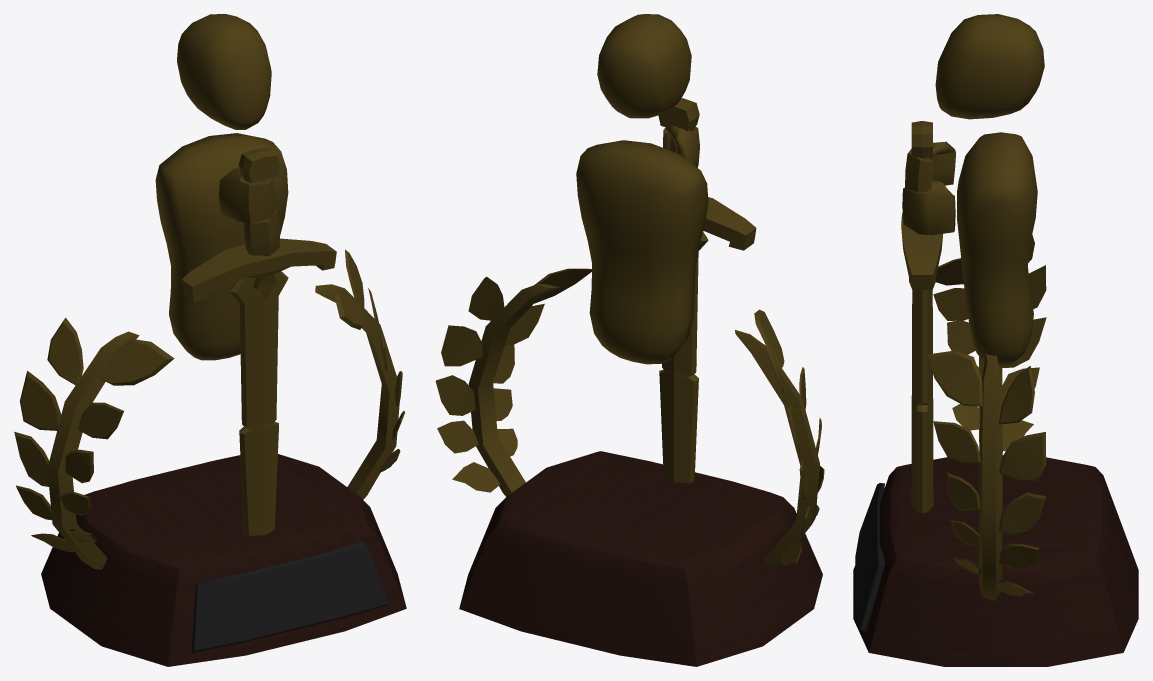
File: contest trophy oscar.glb
The picture shows the model from 3 angles, left to right: view 1: azimuth 30°, elevation 25°; view 2: azimuth 150°, elevation 25°; view 3: azimuth 270°, elevation 25°; orthographic projection.
Parts seen in each view (by area): view 1: Trophy_Oscar_LOD0; view 2: Trophy_Oscar_LOD0; view 3: Trophy_Oscar_LOD0.
Part boxes in pixels (x1,y1,x2,y2): Trophy_Oscar_LOD0: [14, 14, 406, 666]; Trophy_Oscar_LOD0: [435, 14, 824, 666]; Trophy_Oscar_LOD0: [853, 14, 1138, 666].
Size of the model in its own units: 0.3558 by 0.5266 by 0.2366.
1 material, 1 textured.
